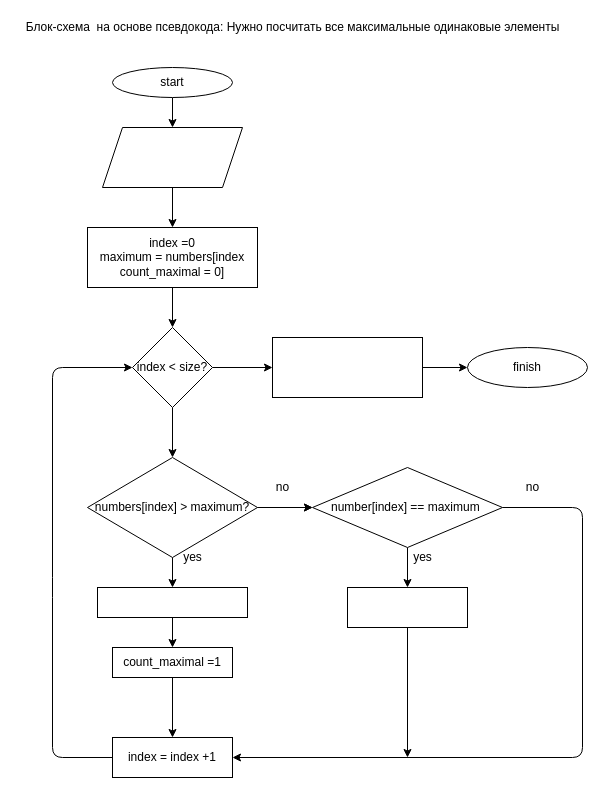
This 608x795 diagram has some shape labels left out. The shapes that lost their labels are listed below. From the top down, each one's centre as x and y in pixels, then its label:
pixel 172 157: numbers =[1,8,3,8,2,6,8,8] size = 8
pixel 347 367: print(count_maximal)
pixel 172 602: maximu = numbers[index]
pixel 407 607: count_maximal = count_maximal + 1
